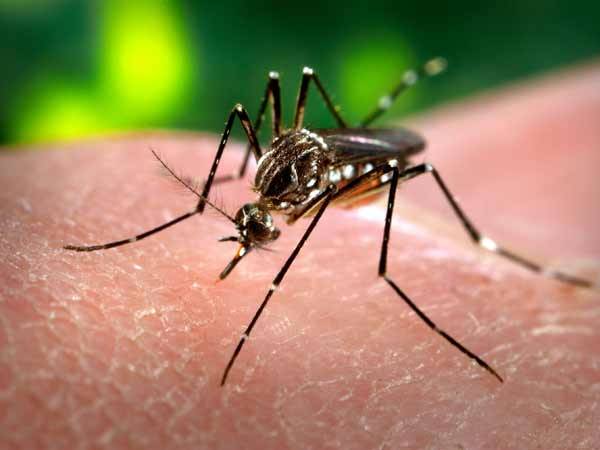dengue_mosquito: (64, 66, 503, 382)
